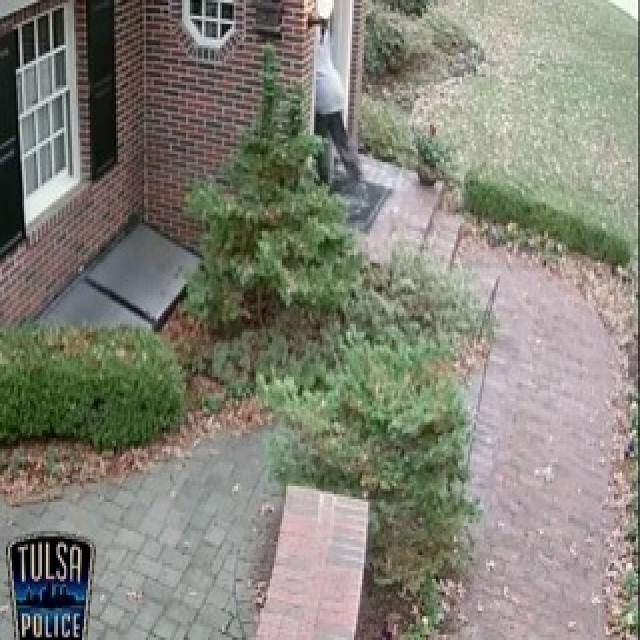burglary: (301, 12, 371, 185)
